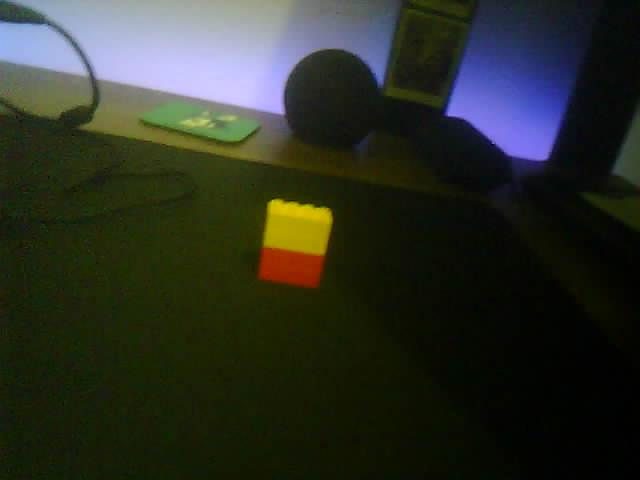lego: (257, 197, 334, 287)
